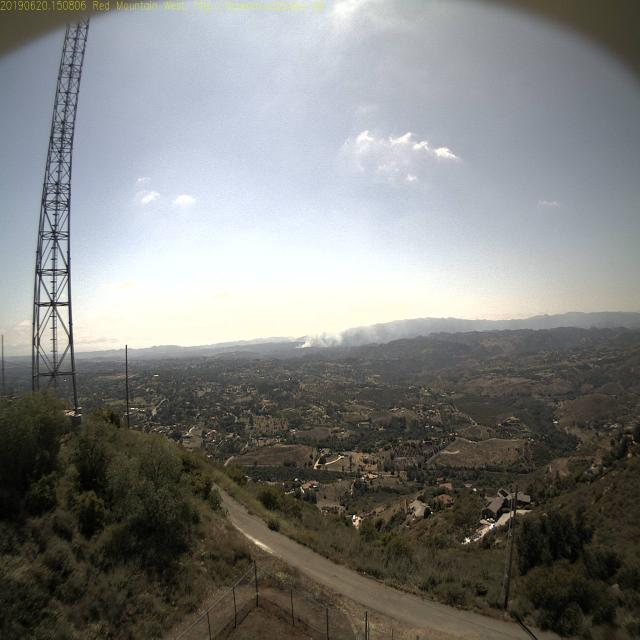smoke: (293, 330, 324, 365)
